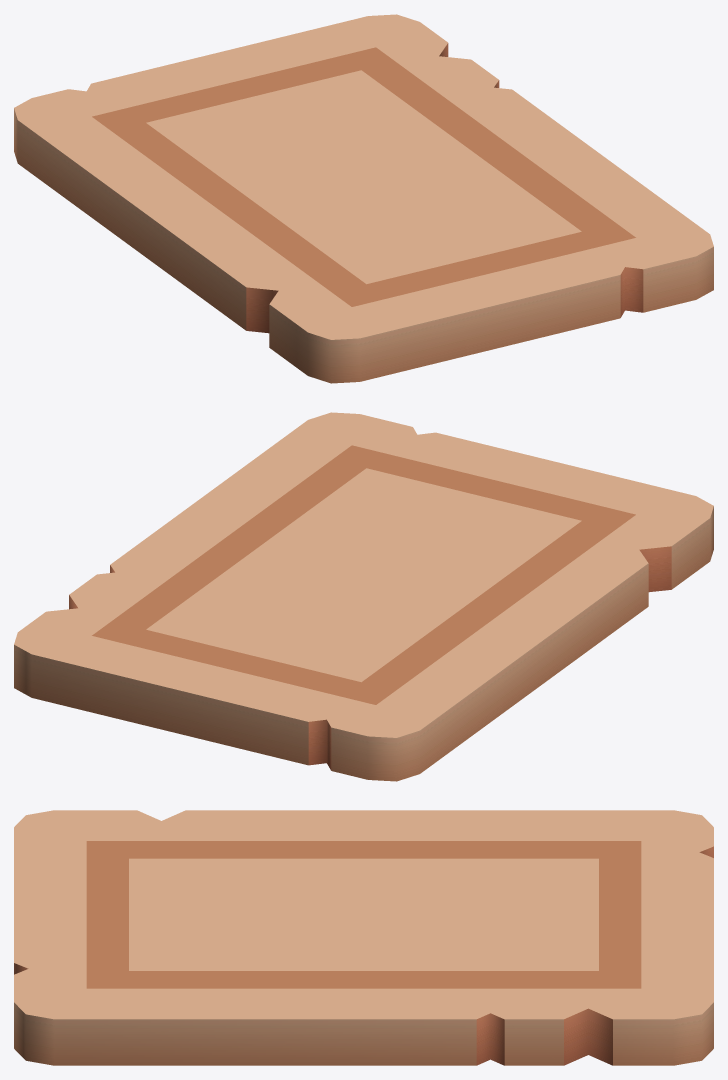
Rendered from cutting-board.glb.
The picture shows the model from 3 angles, top to bottom: view 1: azimuth 30°, elevation 25°; view 2: azimuth 150°, elevation 25°; view 3: azimuth 270°, elevation 25°; orthographic projection. The views are drawn at different scales.
Parts seen in each view (by area): view 1: cutting-board; view 2: cutting-board; view 3: cutting-board.
Part boxes in pixels (x1,y1,x2,y2): cutting-board: [14, 14, 713, 383]; cutting-board: [14, 412, 713, 781]; cutting-board: [14, 810, 713, 1065].
Size of the model in its own units: 0.58 by 0.06 by 0.82.
Materials: 1 (1 with a texture image).
